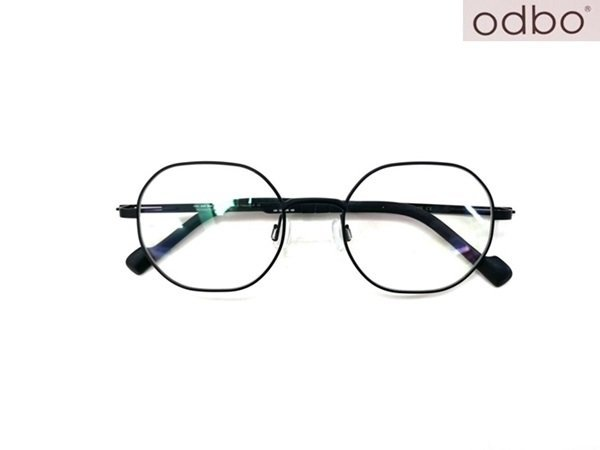glass: (109, 146, 526, 313)
